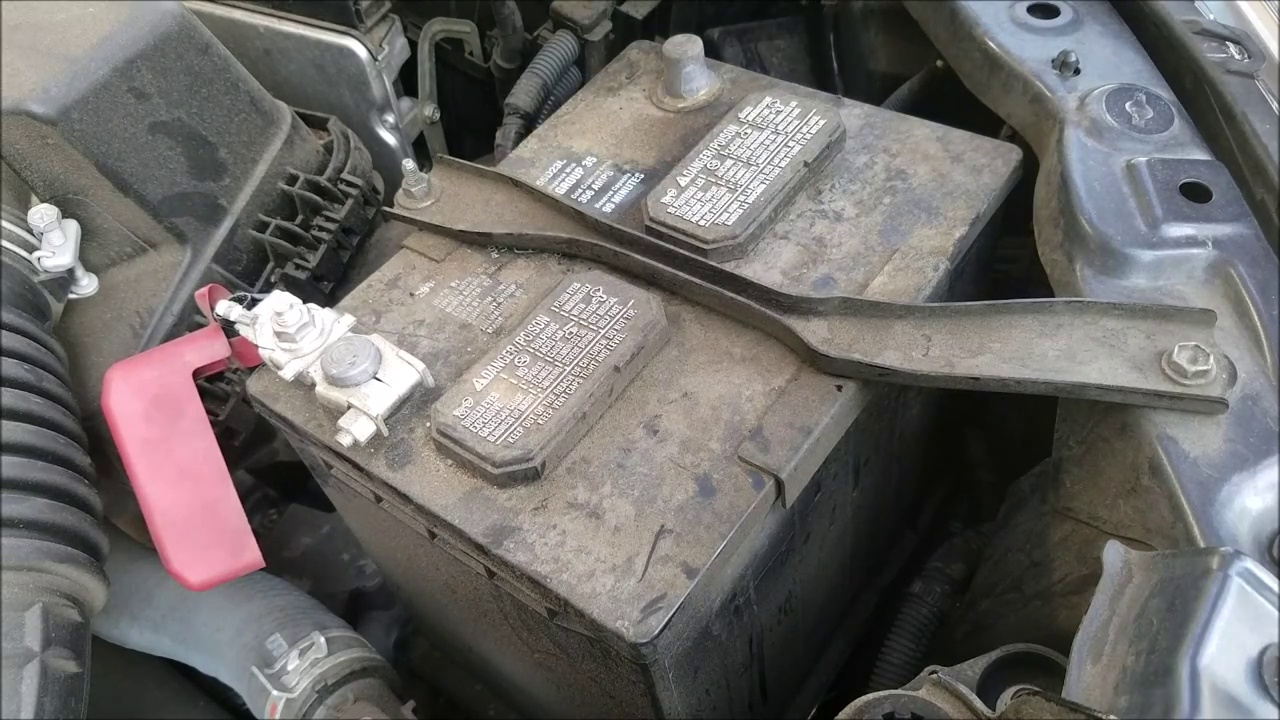battery: (275, 33, 1025, 639)
neg_disconnected: (594, 12, 757, 133)
pos_connected: (122, 283, 424, 497)
